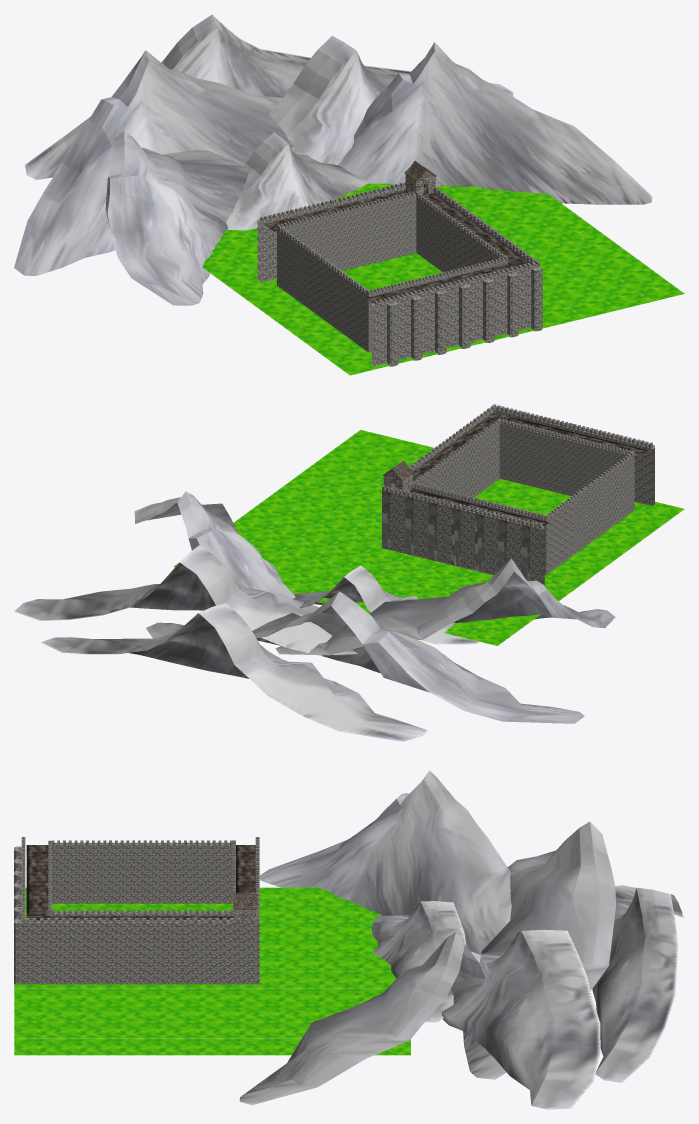
Rendered from 349_bg_barrierC.fbx.
3 renders of one model, top to bottom at view 1: azimuth 30°, elevation 25°; view 2: azimuth 150°, elevation 25°; view 3: azimuth 270°, elevation 25°, orthographic. The views are drawn at different scales.
Visible parts, largest first — view 1: polySurface1, pPlane2, polySurface17, Sekisyo3, polySurface18, Sekisyo2, polySurface19, polySurface20, polySurface16, pPlane1; view 2: pPlane2, Sekisyo3, polySurface20, Sekisyo2, polySurface17, polySurface19, polySurface18, polySurface1, polySurface16, pPlane1; view 3: pPlane2, polySurface18, polySurface19, Sekisyo2, Sekisyo3, polySurface1, polySurface20, polySurface17, polySurface16, pPlane1.
Boxes of the visible parts, box(x1,y1,x2,y2) form: polySurface1: box(338, 42, 652, 204); pPlane2: box(202, 183, 684, 375); polySurface17: box(14, 50, 294, 275); Sekisyo3: box(277, 191, 507, 352); polySurface18: box(105, 130, 248, 305); Sekisyo2: box(257, 182, 542, 366); polySurface19: box(269, 36, 513, 164); polySurface20: box(25, 14, 310, 179); polySurface16: box(226, 132, 367, 230); pPlane1: box(264, 187, 528, 303); pPlane2: box(173, 430, 684, 645); Sekisyo3: box(412, 418, 634, 574); polySurface20: box(41, 603, 426, 741); Sekisyo2: box(382, 404, 654, 585); polySurface17: box(146, 591, 584, 723); polySurface19: box(14, 545, 357, 655); polySurface18: box(275, 558, 615, 655); polySurface1: box(134, 491, 295, 598); polySurface16: box(293, 565, 479, 644); pPlane1: box(410, 413, 647, 526); pPlane2: box(14, 887, 410, 1055); polySurface18: box(259, 770, 511, 953); polySurface19: box(442, 929, 600, 1109); Sekisyo2: box(14, 837, 259, 984); Sekisyo3: box(48, 840, 235, 916); polySurface1: box(239, 932, 491, 1104); polySurface20: box(592, 885, 684, 1082); polySurface17: box(463, 821, 615, 1079); polySurface16: box(371, 901, 466, 1022); pPlane1: box(26, 845, 255, 920).
Size of the model in its own units: 10526 by 2500 by 11160.
